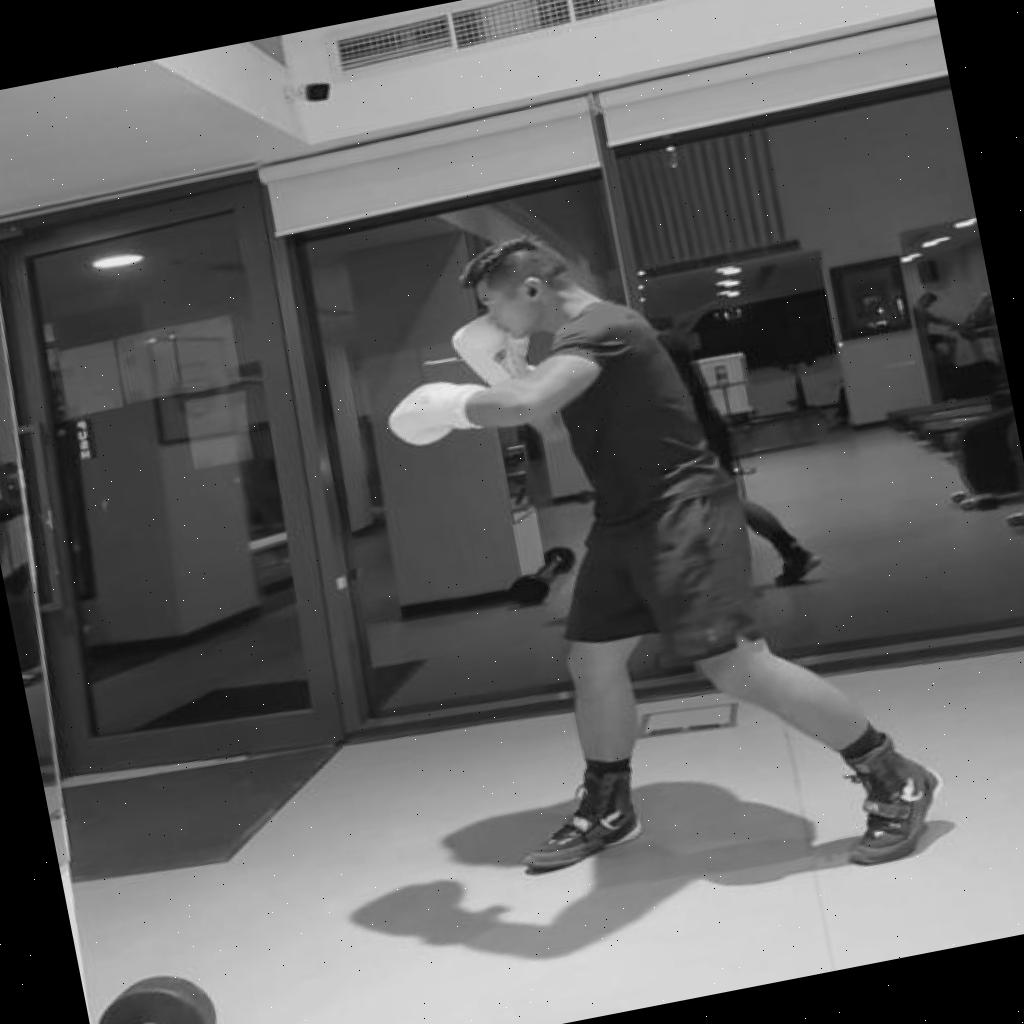hook: (358, 170, 960, 944)
